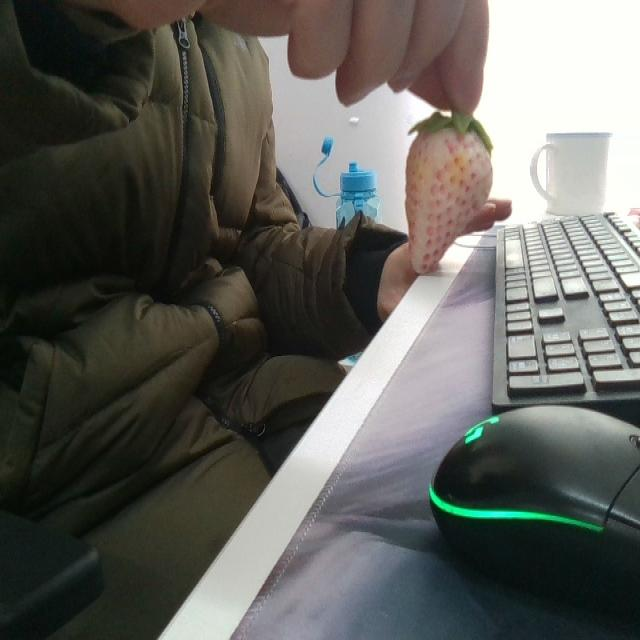immature: (406, 114, 494, 276)
